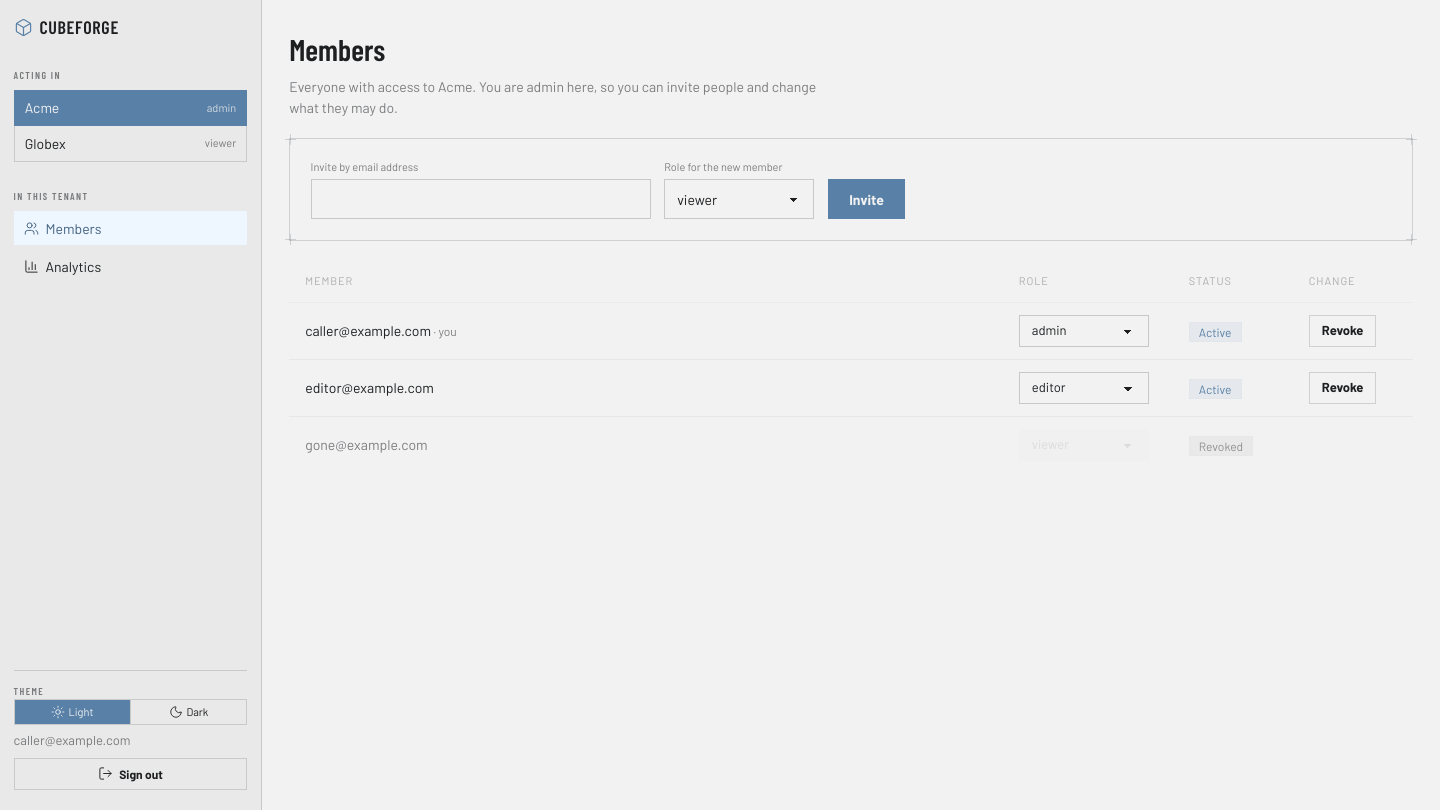
Test: a refusal that names none › says only that it is unavailable
expect the text "editor@example.com" is shown: met, box top-left (289, 360), bottom-right (1003, 416)
Step 1. Click the button "Revoke" in the row of "editor@example.com" → (1343, 388), box top-left (1309, 372), bottom-right (1376, 404)
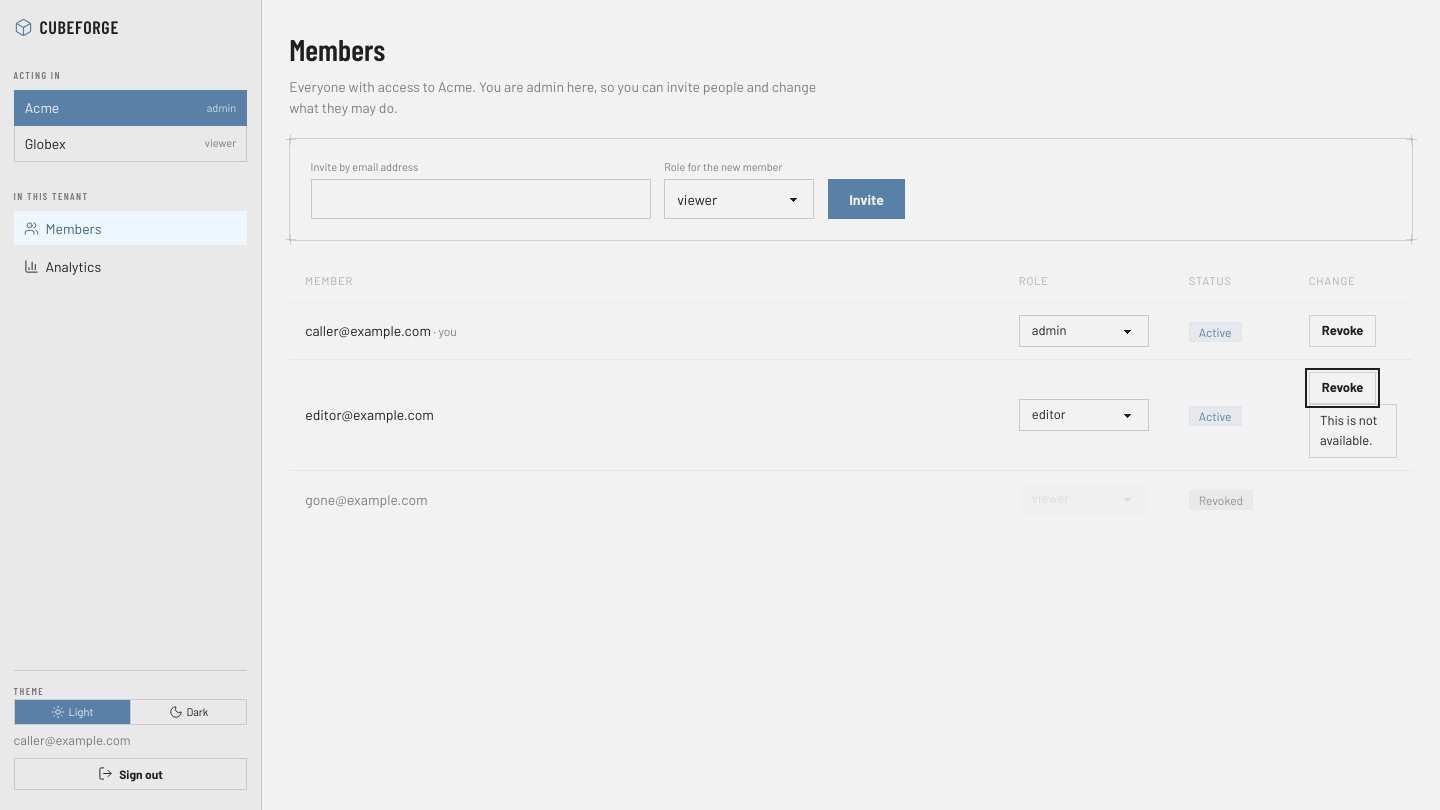
expect the message shows "not available": met, box top-left (1320, 412), bottom-right (1377, 448)
